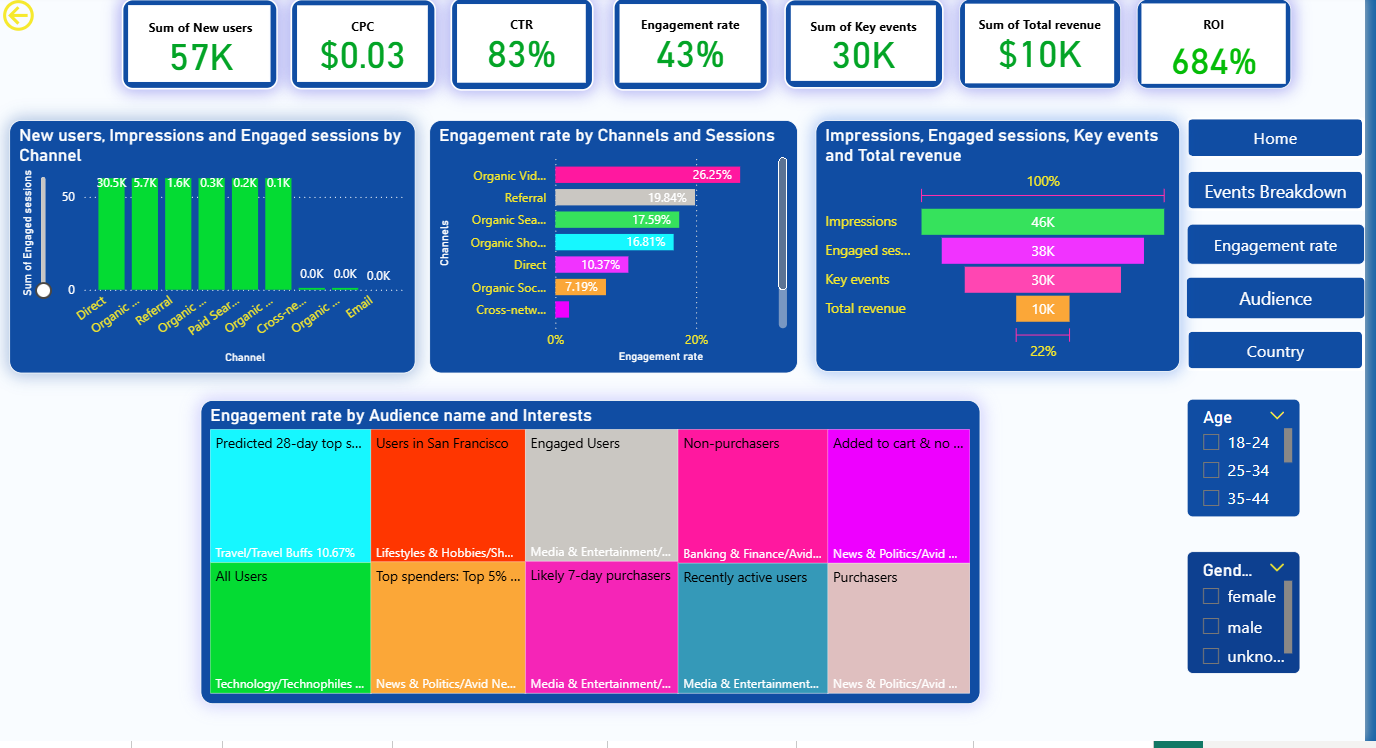

The dashboard page shown, as its layout file describes it:
{"tool":"powerbi","page":{"name":"Engagement Dashboard","canvas":[1337,730],"ordinal":3},"visuals":[{"type":"actionButton","box":[1163,171,174,40],"z":0},{"type":"actionButton","box":[1163,224,174,40],"z":1000},{"type":"actionButton","box":[1163,277,174,40],"z":2000},{"type":"actionButton","box":[1163,328,174,40],"z":3000},{"type":"slicer","fields":{"Values":["Table 7 (Demographic details Age).Age"]},"box":[1163.3,395.1,111.3,116.2],"z":4000},{"type":"slicer","fields":{"Values":["Table 9 (Demographic details Gender).Gender"]},"box":[1163.3,544.3,111.3,119.9],"z":5000},{"type":"cardVisual","fields":{"Data":["Sum(Table 1 (User acquisition).New users)"]},"box":[121,4,153,89],"z":6000},{"type":"cardVisual","fields":{"Data":["Table 1 (User acquisition).CPC"]},"box":[286,4,142,89],"z":7000},{"type":"cardVisual","fields":{"Data":["Table 1 (User acquisition).CTR"]},"box":[443,3,140,91],"z":8000},{"type":"cardVisual","fields":{"Data":["Avg(Table 1 (User acquisition).Engagement rate)"]},"box":[602,2,152,91],"z":9000},{"type":"cardVisual","fields":{"Data":["Sum(Table 1 (User acquisition).Key events)"]},"box":[769,4,156,88],"z":10000},{"type":"cardVisual","fields":{"Data":["Sum(Table 1 (User acquisition).Total revenue)"]},"box":[941,4,158,88],"z":11000},{"type":"cardVisual","fields":{"Data":["Table 1 (User acquisition).ROI"]},"box":[1114,4,151,88],"z":12000},{"type":"actionButton","title":"Home","box":[1163,120,174,40],"z":13000},{"type":"clusteredColumnChart","title":"New users, Impressions and Engaged sessions by Channel","fields":{"Category":["Table 1 (User acquisition).Channel"],"Y":["Sum(Table 1 (User acquisition).Engaged sessions)"]},"box":[11,122.3,397.5,248.3],"z":14000},{"type":"funnel","fields":{"Y":["Sum(Table 1 (User acquisition).Impressions)","Sum(Table 1 (User acquisition).Engaged sessions)","Sum(Table 1 (User acquisition).Key events)","Sum(Table 1 (User acquisition).Total revenue)"]},"box":[800.2,122.7,356.6,246.7],"z":15000},{"type":"barChart","fields":{"Category":["Table 2 (Traffic acquisition).Channels"],"Series":["Table 2 (Traffic acquisition).Sessions"],"Y":["Sum(Table 2 (Traffic acquisition).Engagement rate)"]},"box":[421.8,122.7,360.5,248],"z":16000},{"type":"actionButton","box":[0,0,100,40],"z":17000},{"type":"treemap","fields":{"Group":["Table 5 (Audience).Audience name"],"Details":["Table 8 (Demographic details Interests).Interests"],"Values":["Sum(Table 8 (Demographic details Interests).Engagement rate)"]},"box":[198.2,396.3,763.3,297.2],"z":18000}]}

Visuals, with their boxes in screenshot pixels (x1, y1, x2, y2), scaled from the page's 1337x730 canvas onto the 1376x748 screenshot:
actionButton: (1197,175,1375,216)
actionButton: (1197,230,1375,271)
actionButton: (1197,284,1375,325)
actionButton: (1197,336,1375,377)
slicer - Table 7 (Demographic details Age).Age: (1197,405,1312,524)
slicer - Table 9 (Demographic details Gender).Gender: (1197,558,1312,681)
cardVisual - Sum(Table 1 (User acquisition).New users): (125,4,282,95)
cardVisual - Table 1 (User acquisition).CPC: (294,4,440,95)
cardVisual - Table 1 (User acquisition).CTR: (456,3,600,96)
cardVisual - Avg(Table 1 (User acquisition).Engagement rate): (620,2,776,95)
cardVisual - Sum(Table 1 (User acquisition).Key events): (791,4,952,94)
cardVisual - Sum(Table 1 (User acquisition).Total revenue): (968,4,1131,94)
cardVisual - Table 1 (User acquisition).ROI: (1146,4,1302,94)
"Home" actionButton: (1197,123,1375,164)
"New users, Impressions and Engaged sessions by Channel" clusteredColumnChart: (11,125,420,380)
funnel - Sum(Table 1 (User acquisition).Impressions) x Sum(Table 1 (User acquisition).Engaged sessions): (824,126,1191,379)
barChart - Table 2 (Traffic acquisition).Channels x Table 2 (Traffic acquisition).Sessions: (434,126,805,380)
actionButton: (0,0,103,41)
treemap - Table 5 (Audience).Audience name x Table 8 (Demographic details Interests).Interests: (204,406,990,711)
